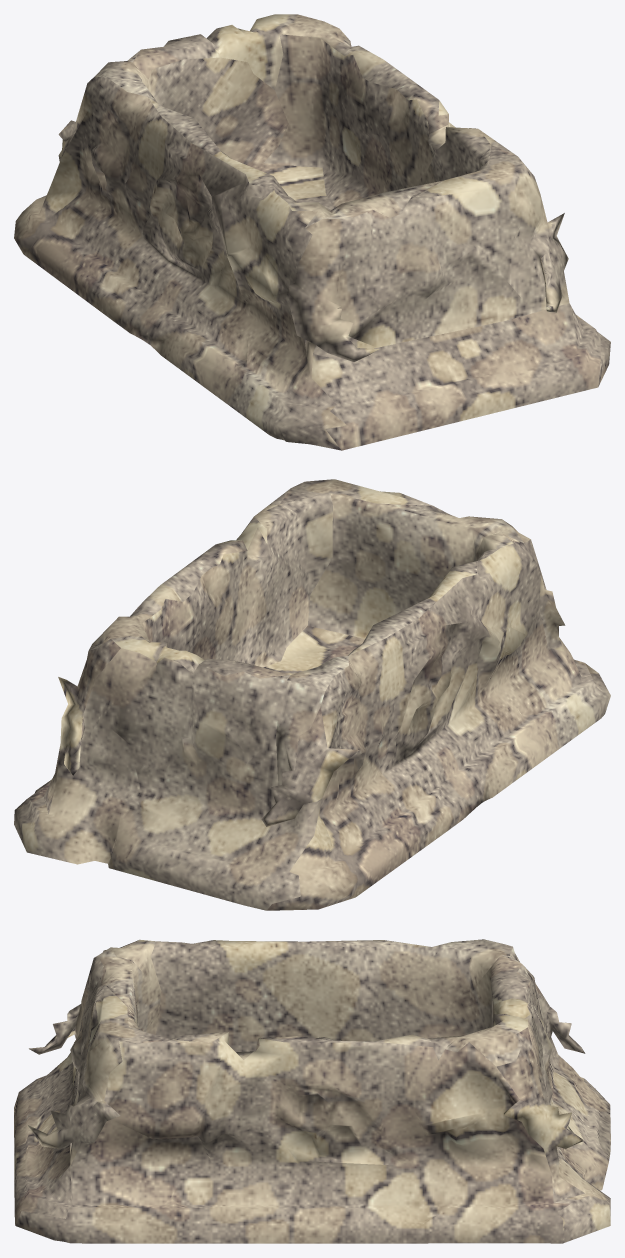
The model's file is SM_LowPoly_Sarcophagus_Bottom.fbx.
3 views of the same model, one above another, from view 1: azimuth 30°, elevation 25°; view 2: azimuth 150°, elevation 25°; view 3: azimuth 270°, elevation 25° (orthographic). The views are drawn at different scales.
Parts seen in each view (by area): view 1: PM3D_Sphere3D1_2; view 2: PM3D_Sphere3D1_2; view 3: PM3D_Sphere3D1_2.
Boxes of the visible parts, x1,y1,x2,y2 form: PM3D_Sphere3D1_2: (14,14,610,450); PM3D_Sphere3D1_2: (14,479,610,910); PM3D_Sphere3D1_2: (14,939,610,1243).
Size of the model in its own units: 193 by 104 by 317.
